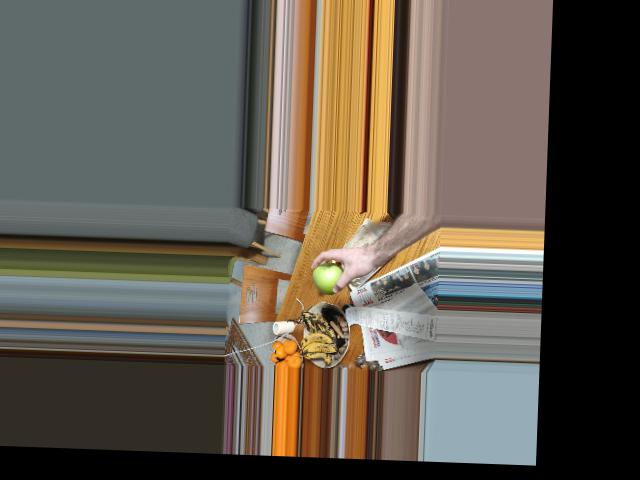apple: (312, 264, 346, 289)
